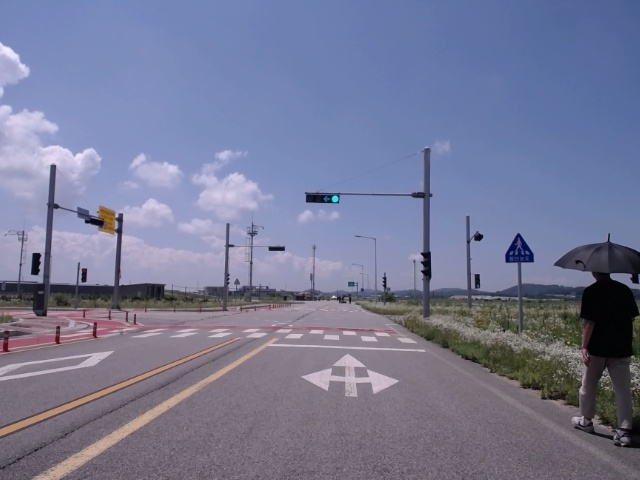all_green_4: (304, 191, 340, 204)
